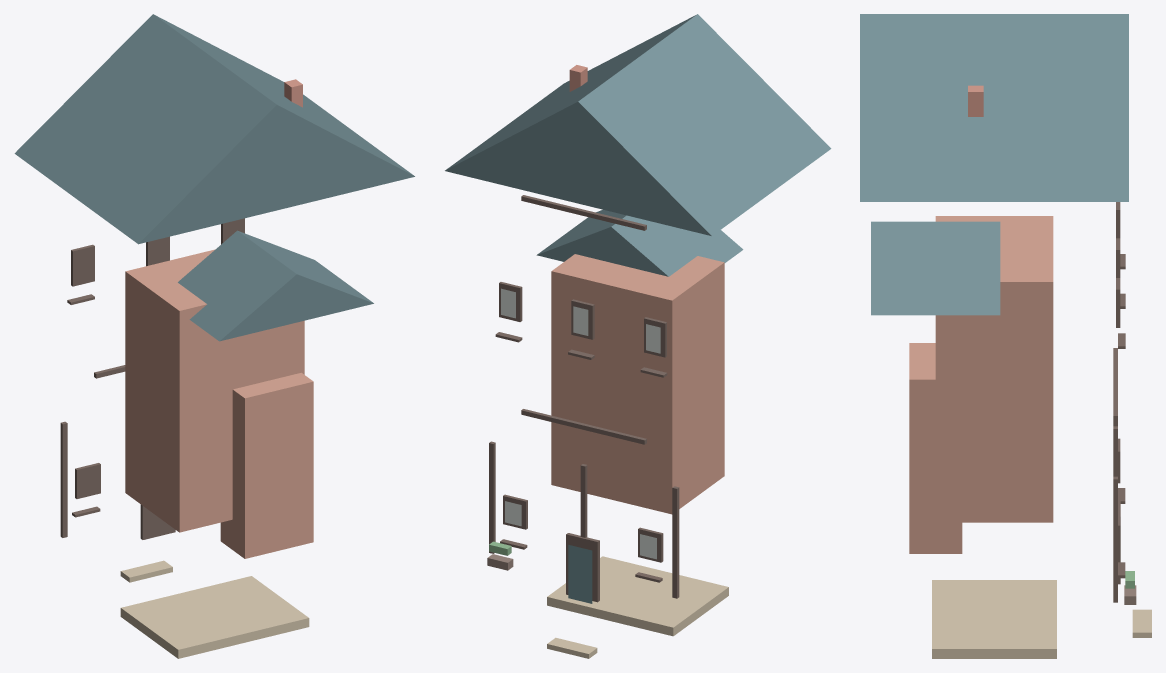
File: harbour-repair-workshop-01.glb
3 views of the same model, side by side, from view 1: azimuth 30°, elevation 25°; view 2: azimuth 150°, elevation 25°; view 3: azimuth 270°, elevation 25° (orthographic). The views are drawn at different scales.
Parts seen in each view (by area): view 1: roof, body, wing, wing_roof, plinth, up_-0.99, uwf_1_-0.78, wf_-0.73, door_frame, step, uwf_1_0.00; view 2: roof, body, plinth, wing_roof, door, door_frame, beam_2, beam_1, up_-0.99, up_0.99, step, up_0.00; view 3: roof, body, wing_roof, plinth, wing, up_0.99, step, chimney.
Part boxes in pixels (x1=…): roof: x1=14, y1=14, x2=414, y2=244; body: x1=125, y1=249, x2=304, y2=532; wing: x1=220, y1=372, x2=313, y2=558; wing_roof: x1=178, y1=230, x2=373, y2=341; plinth: x1=120, y1=576, x2=309, y2=658; up_-0.99: x1=60, y1=421, x2=67, y2=537; uwf_1_-0.78: x1=71, y1=244, x2=94, y2=286; wf_-0.73: x1=75, y1=463, x2=100, y2=498; door_frame: x1=140, y1=504, x2=175, y2=539; step: x1=120, y1=560, x2=172, y2=582; uwf_1_0.00: x1=146, y1=236, x2=169, y2=266; roof: x1=445, y1=14, x2=831, y2=235; body: x1=551, y1=254, x2=724, y2=514; plinth: x1=547, y1=556, x2=728, y2=636; wing_roof: x1=536, y1=209, x2=743, y2=276; door: x1=568, y1=545, x2=592, y2=603; door_frame: x1=566, y1=533, x2=599, y2=602; beam_2: x1=521, y1=195, x2=646, y2=230; beam_1: x1=521, y1=409, x2=646, y2=444; up_-0.99: x1=672, y1=486, x2=679, y2=598; up_0.99: x1=489, y1=441, x2=495, y2=553; step: x1=547, y1=637, x2=597, y2=658; up_0.00: x1=580, y1=464, x2=587, y2=537; roof: x1=860, y1=14, x2=1128, y2=201; body: x1=935, y1=216, x2=1053, y2=522; wing_roof: x1=871, y1=221, x2=1000, y2=315; plinth: x1=932, y1=580, x2=1056, y2=658; wing: x1=909, y1=343, x2=962, y2=553; up_0.99: x1=1113, y1=476, x2=1117, y2=602; step: x1=1132, y1=609, x2=1151, y2=637; chimney: x1=968, y1=85, x2=983, y2=116.
Bounding box in the file's own units: 2.88 × 5.61 × 2.42.
